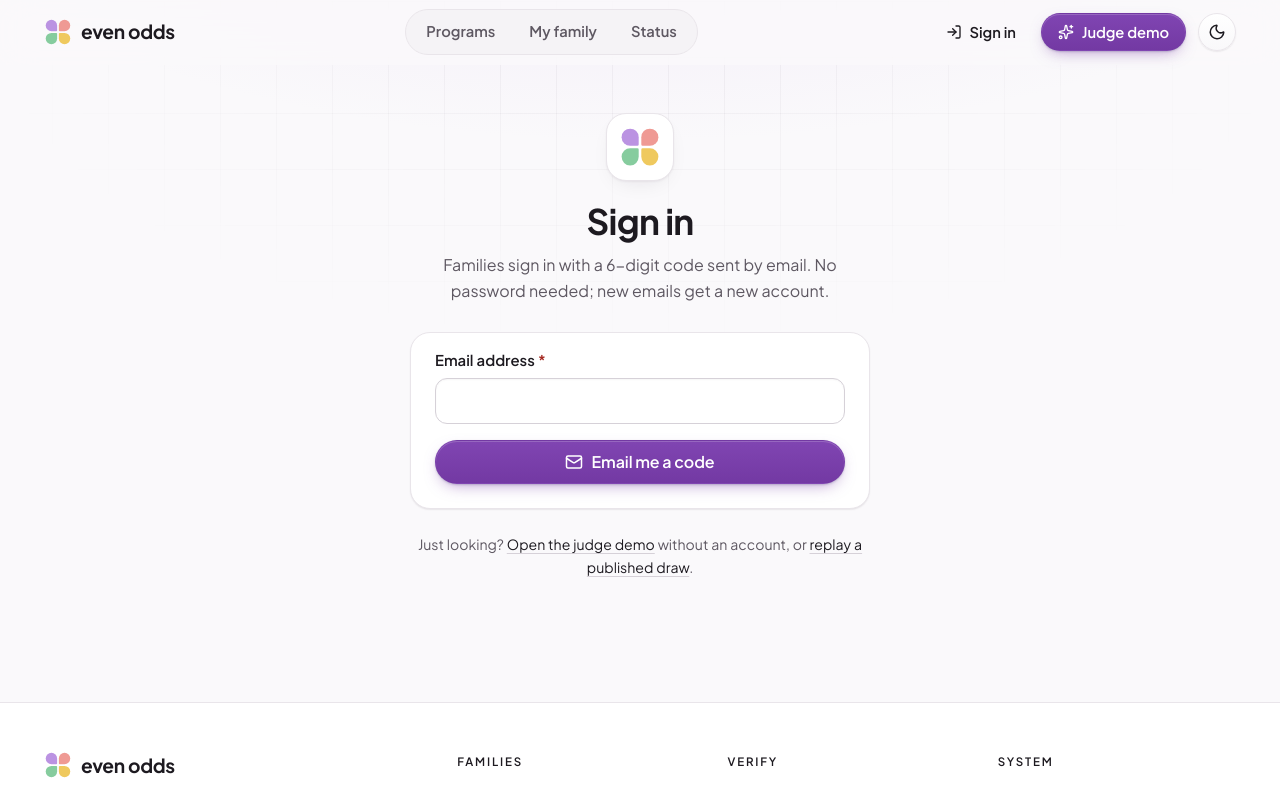
it: SignInPage › reports an unreachable sign-in service instead of pretending a code was sent
Type "synthetic@example.com" into the field labelled "Email address *" at (640, 401), box [435,378,845,424]
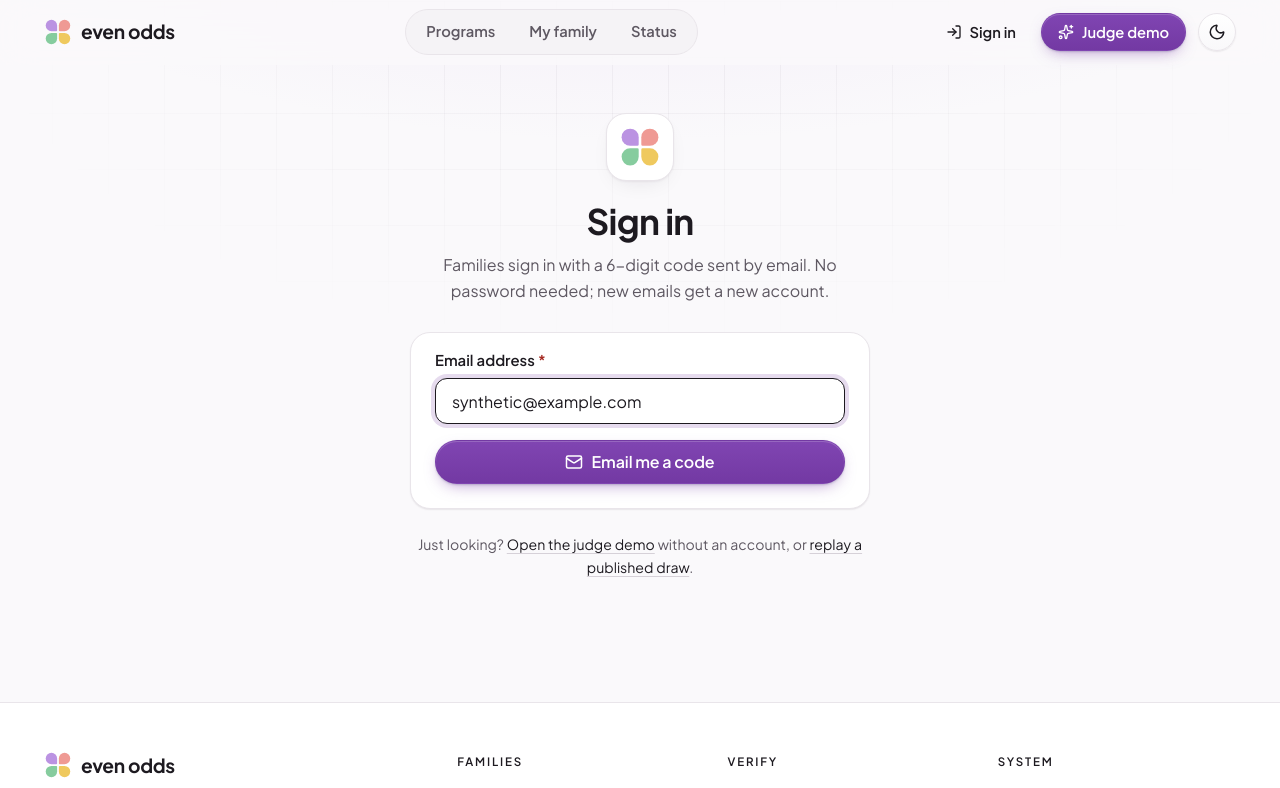
Click the button "Email me a code" at (640, 462), box [435,440,845,484]
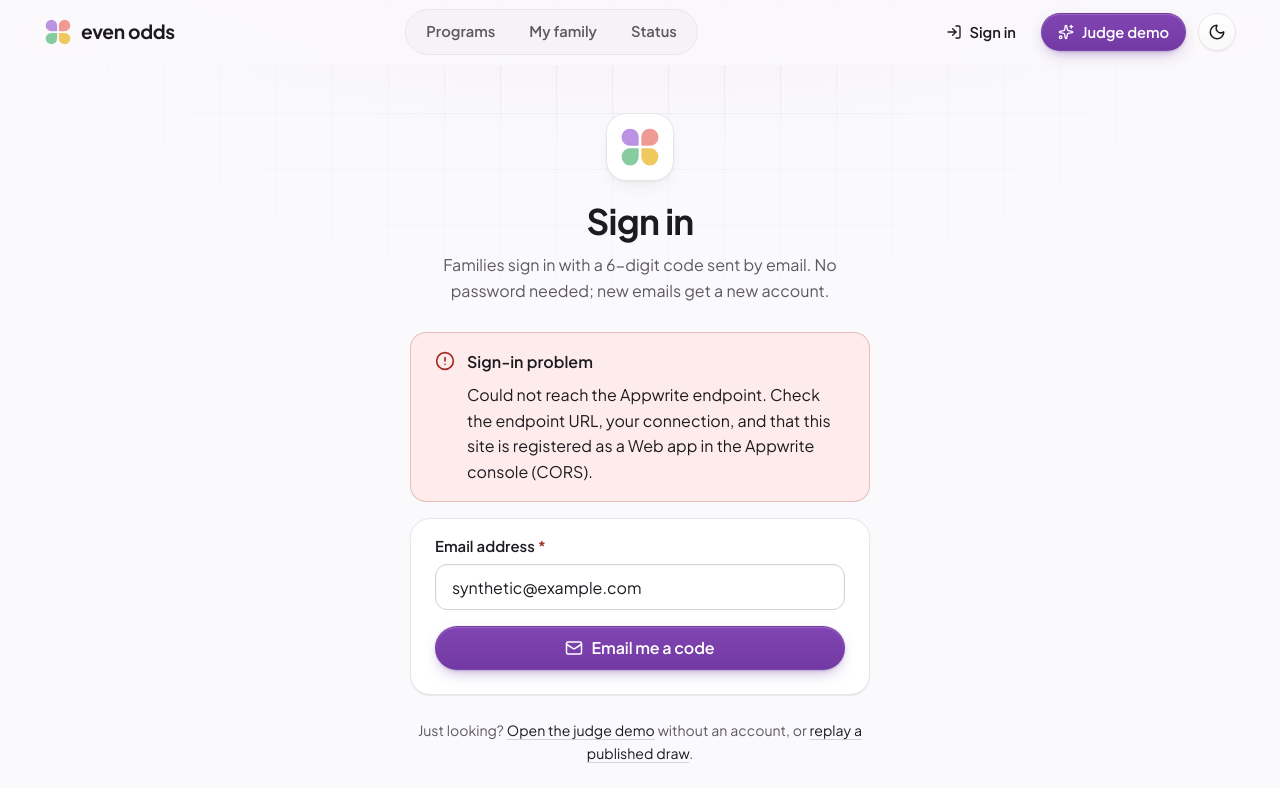
Expected: the message shows "Could not reach", [467,384,831,482]
